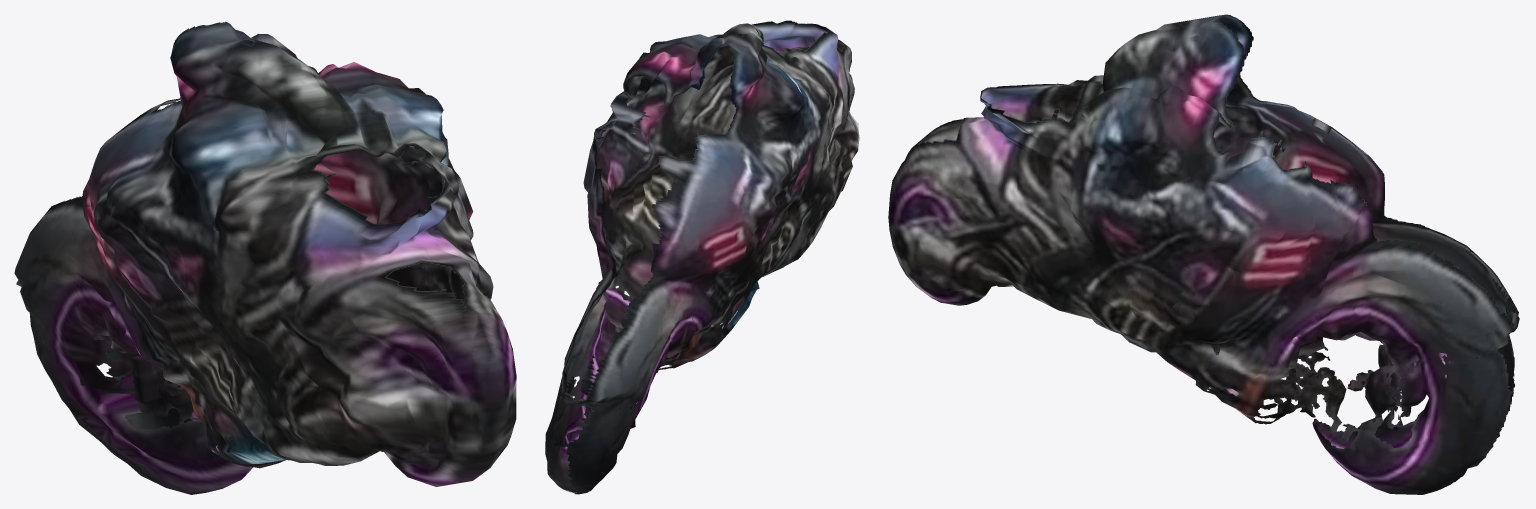
The model's file is speederbike.glb.
The picture shows the model from 3 angles, left to right: view 1: azimuth 30°, elevation 25°; view 2: azimuth 150°, elevation 25°; view 3: azimuth 270°, elevation 25°; orthographic projection. The views are drawn at different scales.
Parts seen in each view (by area): view 1: speederbike.glb; view 2: speederbike.glb; view 3: speederbike.glb.
Boxes of the visible parts, x1,y1,x2,y2 form: speederbike.glb: (14,21,516,494); speederbike.glb: (545,20,859,494); speederbike.glb: (888,14,1519,494).
Bounding box in the file's own units: 0.3894 × 0.7263 × 0.9439.
1 material, 1 textured.
